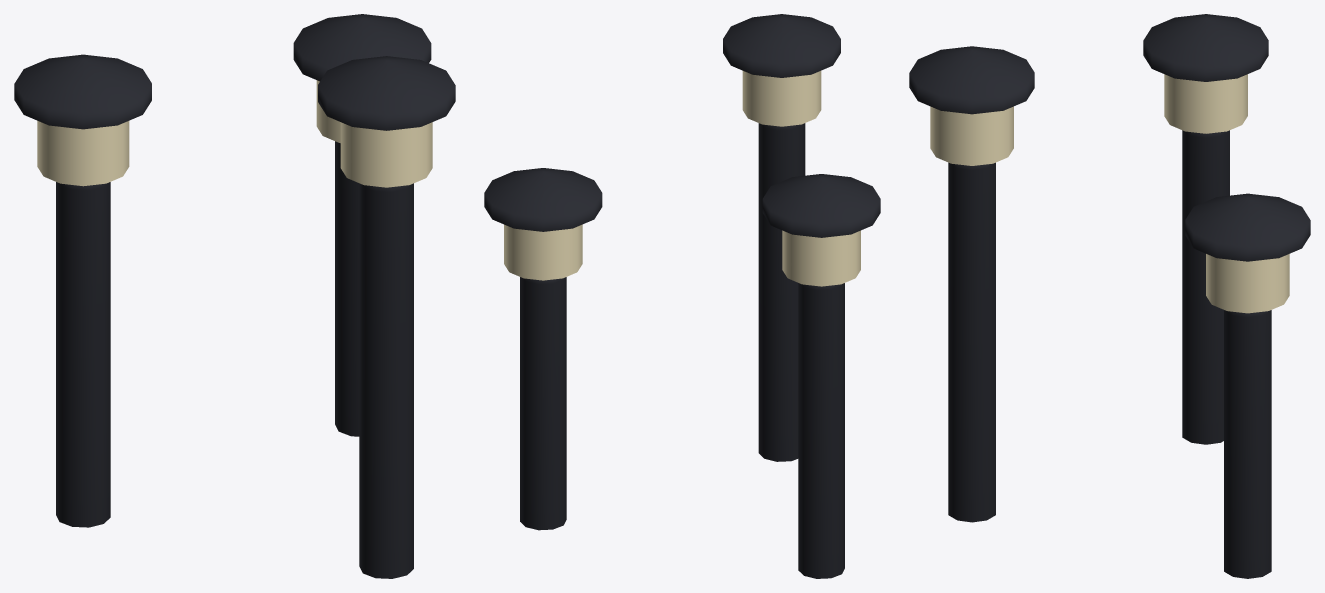
Rendered from furn_od_path_light.glb.
3 views of the same model, side by side, from view 1: azimuth 30°, elevation 25°; view 2: azimuth 150°, elevation 25°; view 3: azimuth 270°, elevation 25° (orthographic). The views are drawn at different scales.
Parts seen in each view (by area): view 1: furn_od_path_light_main, furn_od_path_light_glow; view 2: furn_od_path_light_main, furn_od_path_light_glow; view 3: furn_od_path_light_main, furn_od_path_light_glow.
Boxes of the visible parts, box(x1,y1,x2,y2) form: furn_od_path_light_main: box(14, 14, 455, 578); furn_od_path_light_glow: box(37, 80, 432, 187); furn_od_path_light_main: box(484, 14, 880, 578); furn_od_path_light_glow: box(504, 71, 860, 286); furn_od_path_light_main: box(909, 14, 1310, 578); furn_od_path_light_glow: box(930, 74, 1289, 313).
Size of the model in its own units: 0.53 by 0.61 by 0.48.
